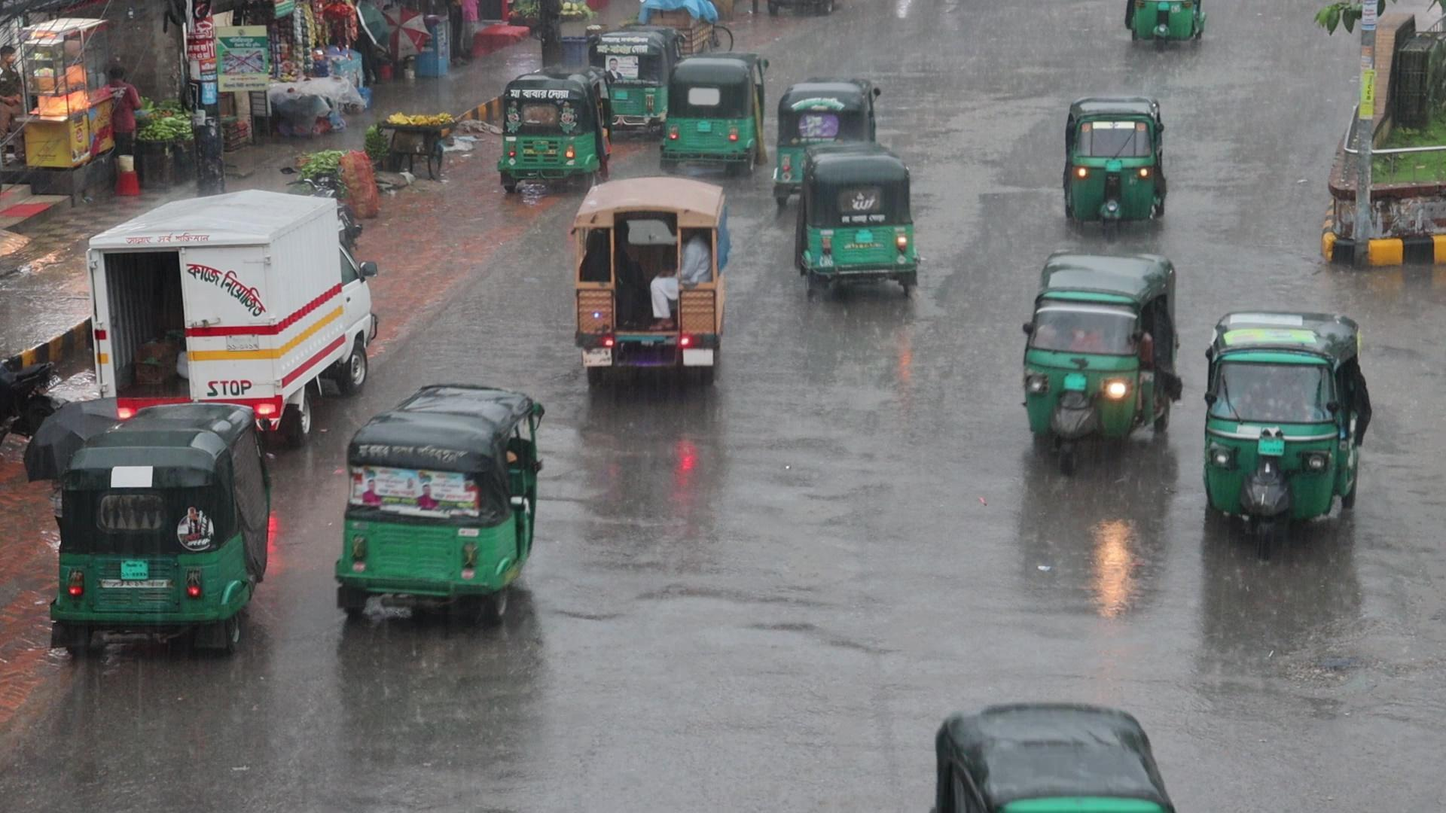Truck: (564, 169, 731, 399)
